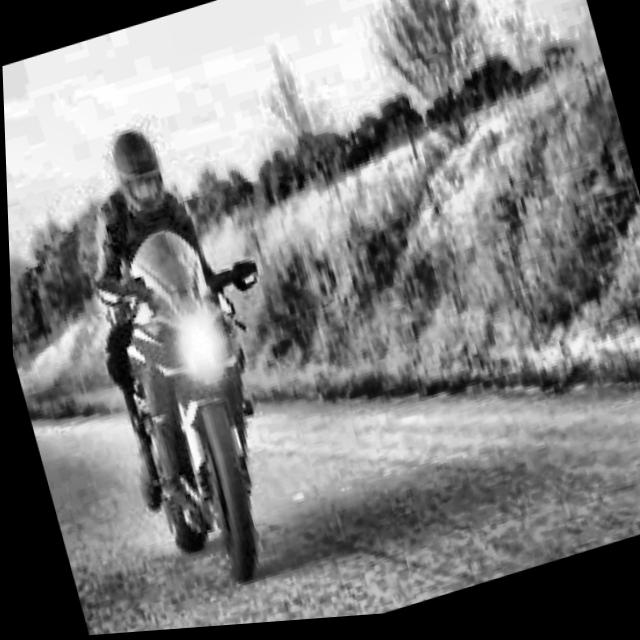motorcycle: (44, 187, 351, 616)
